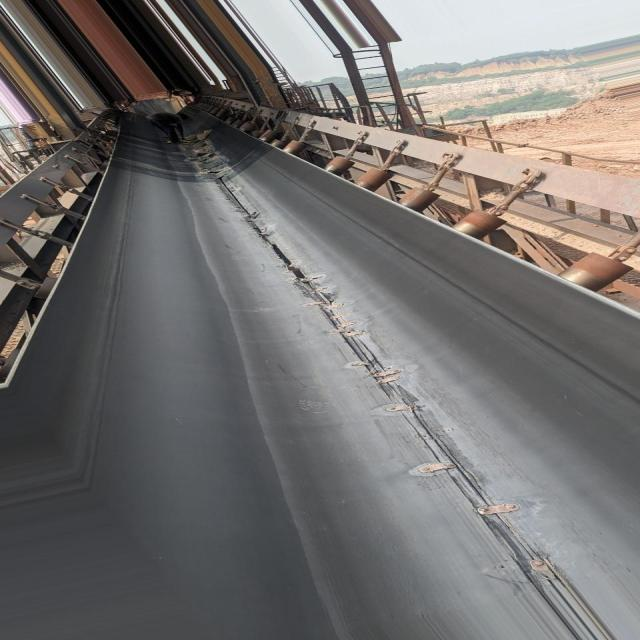Human: (149, 106, 197, 136)
Roller: (216, 106, 633, 287)
Tear: (212, 185, 335, 318)
patch work: (326, 315, 578, 640), (177, 139, 222, 179)
